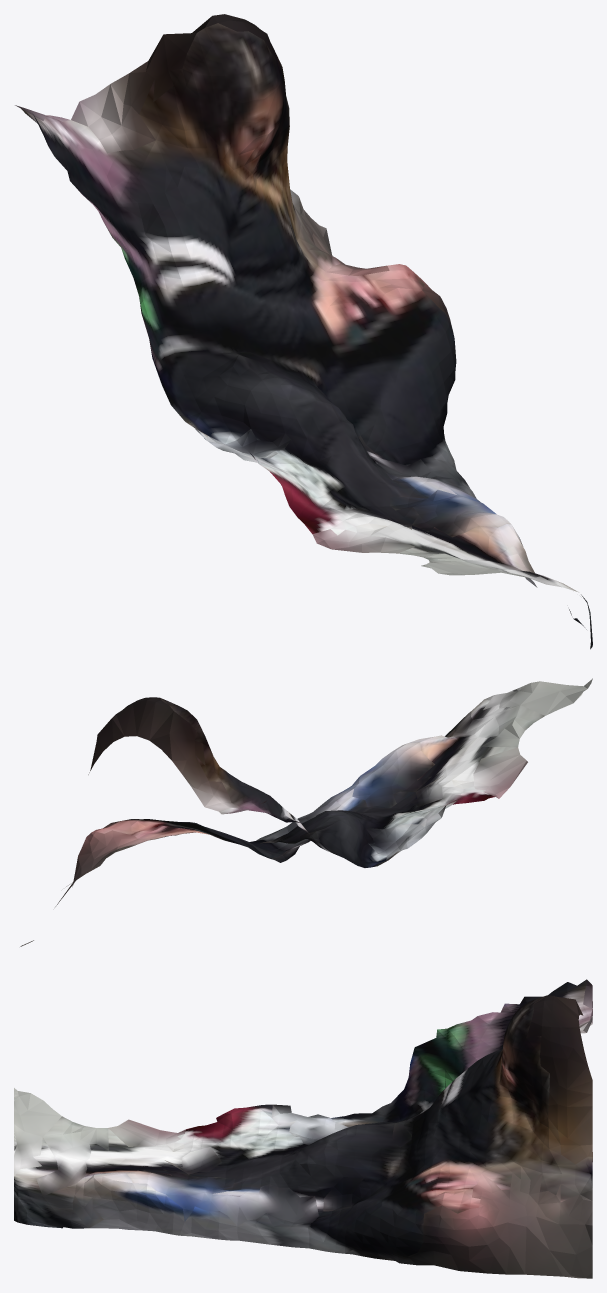
The picture shows the model from 3 angles, top to bottom: view 1: azimuth 30°, elevation 25°; view 2: azimuth 150°, elevation 25°; view 3: azimuth 270°, elevation 25°; orthographic projection. The views are drawn at different scales.
Bounding box in the file's own units: 0.6451 × 0.6417 × 1.46.
Materials: 1 (1 with a texture image).
